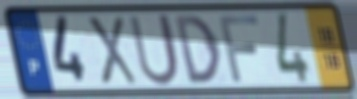4: (52, 12, 92, 90), (274, 10, 314, 87)
D: (172, 12, 223, 87)
F: (216, 13, 262, 85)
U: (127, 11, 182, 89)
X: (84, 14, 141, 87)
